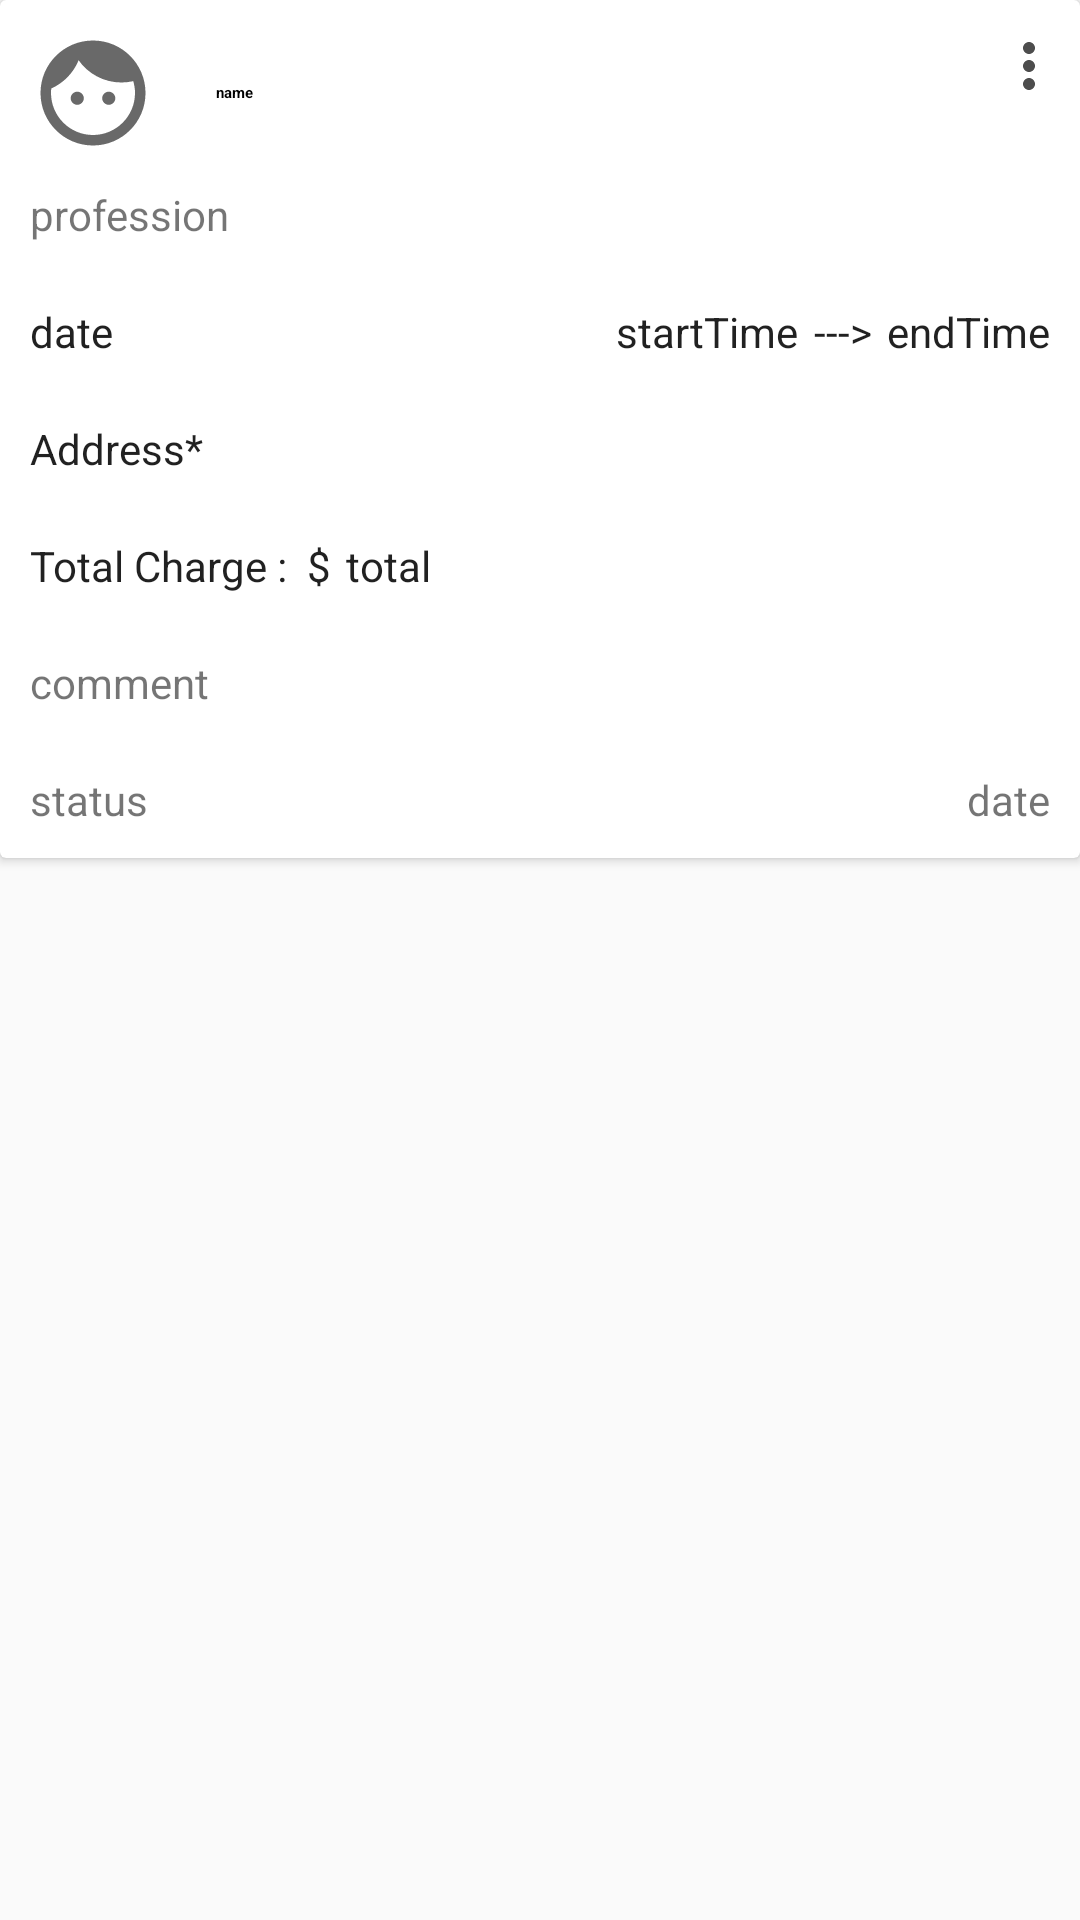

Icon bounding boxes for this 1080 × 1920 phone screenshot, format (x1, y1, x2, y2):
face: (40, 40, 146, 146)
more vert: (1023, 42, 1035, 90)
